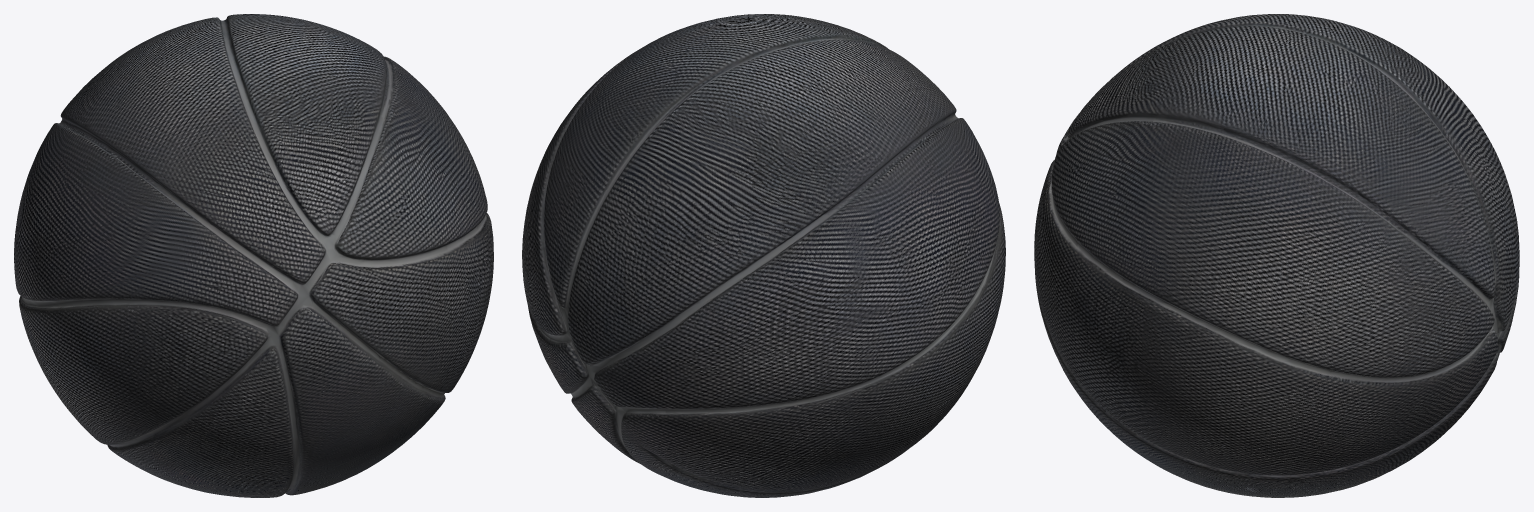
File: palla_nera_mobile.glb
3 views of the same model, side by side, from view 1: azimuth 30°, elevation 25°; view 2: azimuth 150°, elevation 25°; view 3: azimuth 270°, elevation 25° (orthographic).
Visible parts, largest first — view 1: node_0; view 2: node_0; view 3: node_0.
Boxes of the visible parts, bbox=[...] form: node_0: bbox=[14, 14, 493, 497]; node_0: bbox=[522, 14, 1005, 497]; node_0: bbox=[1034, 14, 1519, 497].
Bounding box in the file's own units: 1.18 × 1.19 × 1.19.
Materials: 1 (1 with a texture image).
